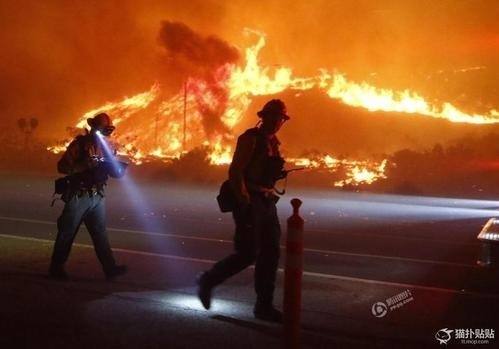fire: (33, 25, 443, 180), (290, 151, 394, 186)
